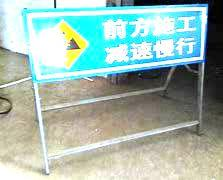sign: (28, 6, 205, 75)
